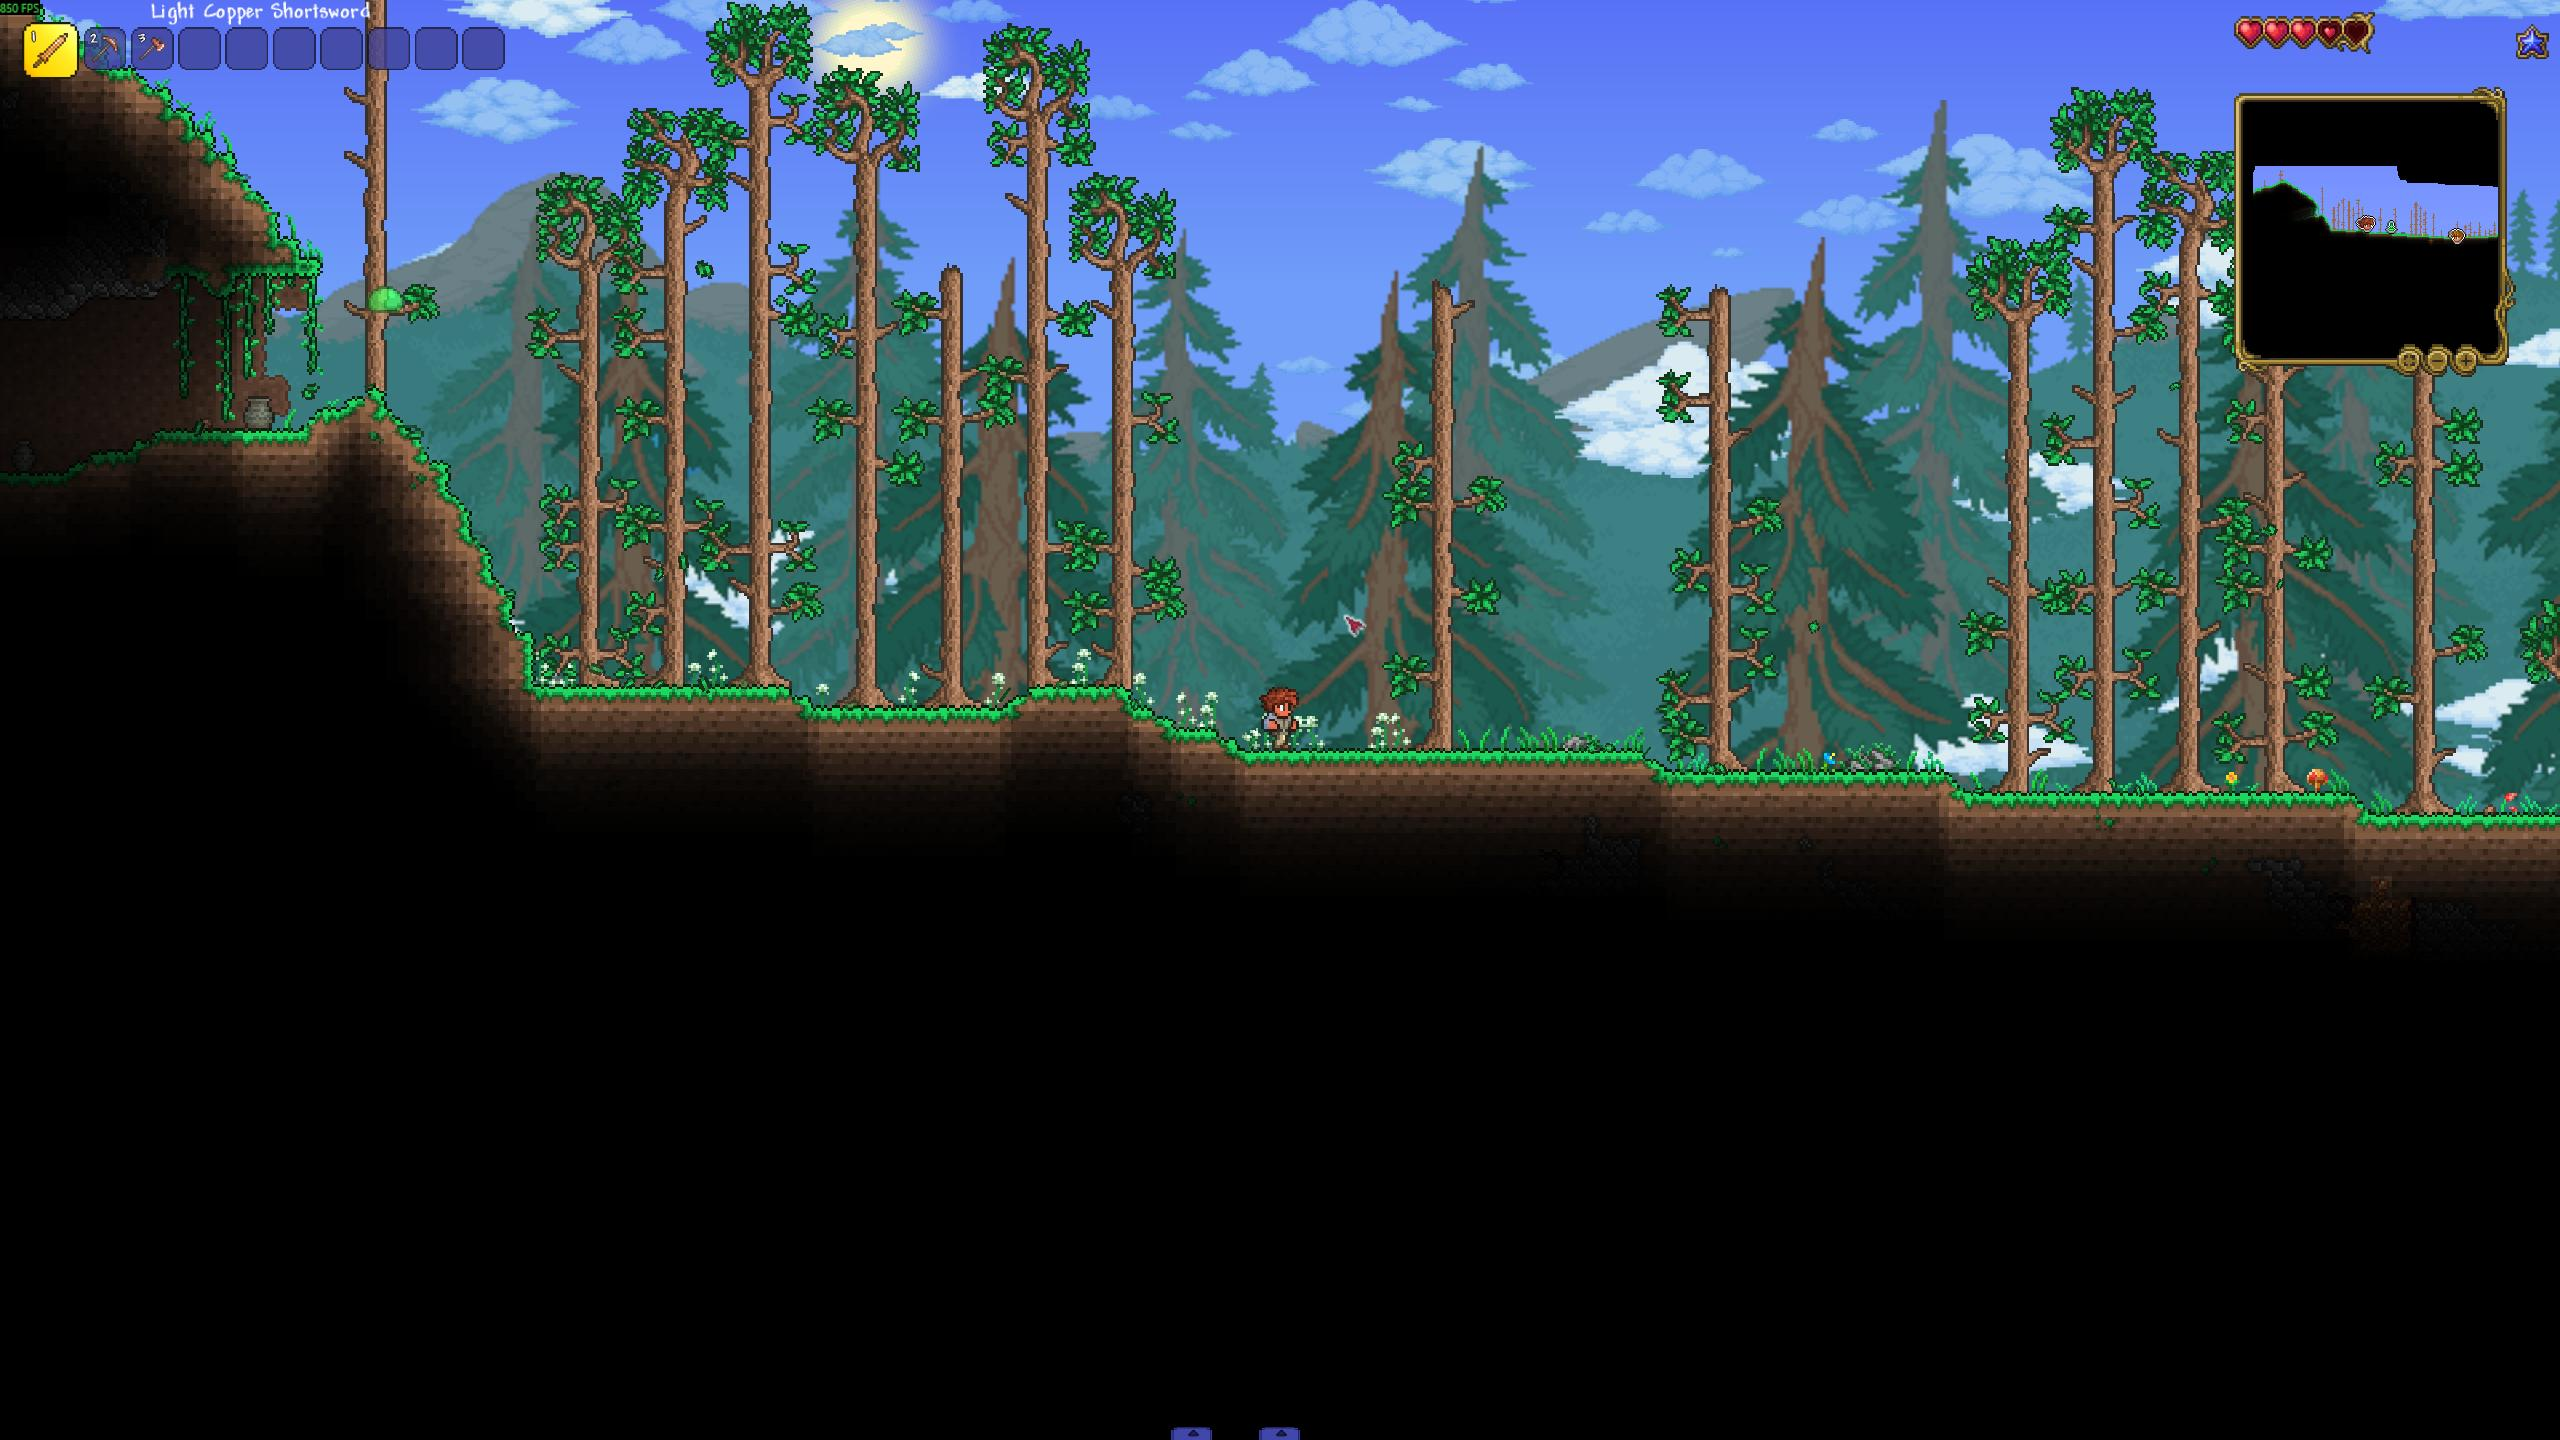Green Slime: (366, 281, 406, 316)
